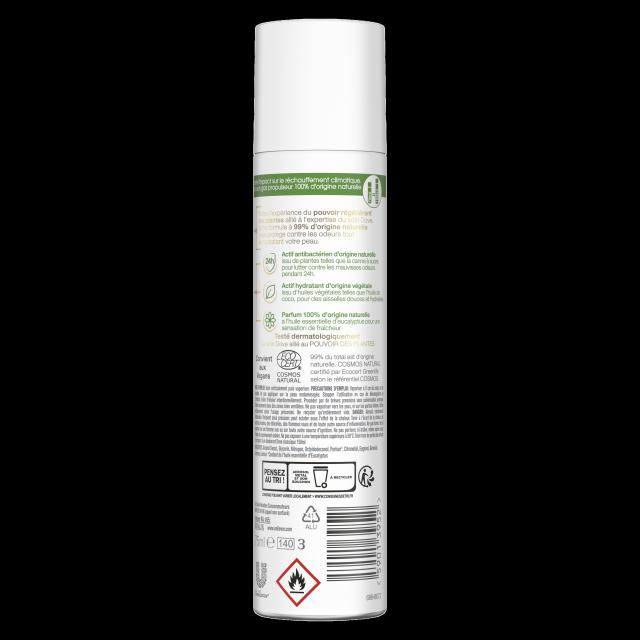GHS_Symbol_FLAME: (275, 558, 321, 608)
